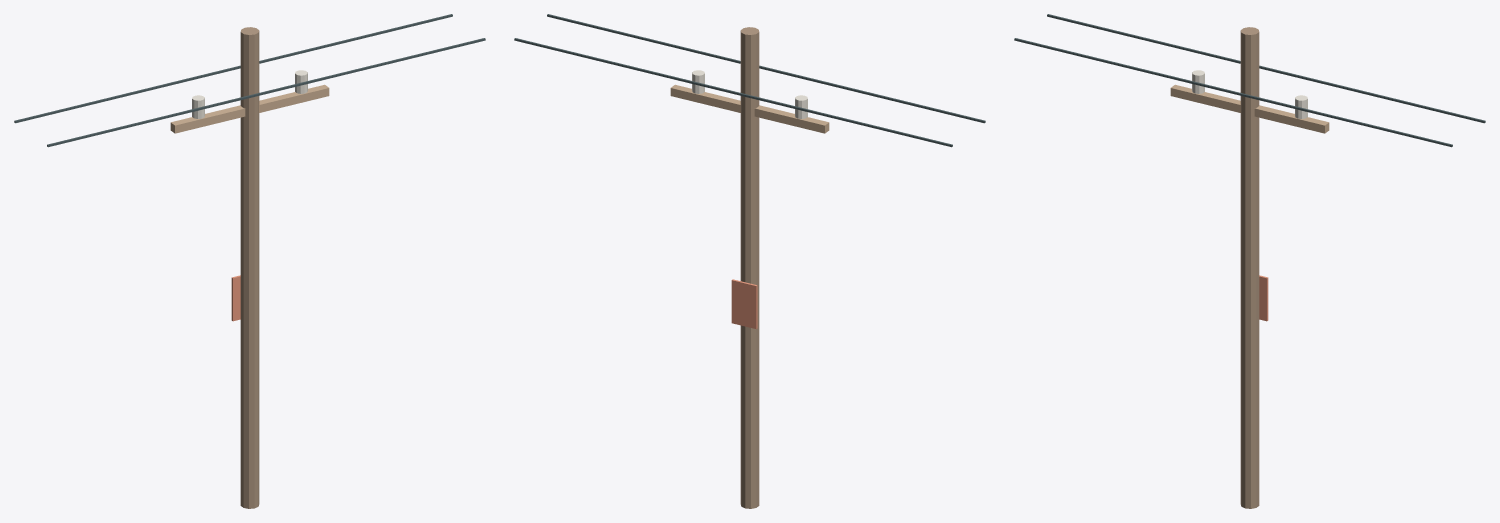
Rendered from yaba_utility_pole.glb.
3 renders of one model, left to right at view 1: azimuth 30°, elevation 25°; view 2: azimuth 150°, elevation 25°; view 3: azimuth 330°, elevation 25°, orthographic.
Parts seen in each view (by area): view 1: utility_pole, utility_crossarm, utility_wire_0.55, utility_wire_-0.55; view 2: utility_pole, utility_crossarm, utility_wire_-0.55, utility_wire_0.55, utility_notice_band; view 3: utility_pole, utility_crossarm, utility_wire_0.55, utility_wire_-0.55.
Part boxes in pixels (x1,y1,x2,y2): utility_pole: (240, 27, 259, 508); utility_crossarm: (170, 84, 329, 133); utility_wire_0.55: (47, 38, 485, 147); utility_wire_-0.55: (14, 14, 452, 123); utility_pole: (740, 27, 759, 508); utility_crossarm: (670, 84, 829, 133); utility_wire_-0.55: (514, 38, 952, 147); utility_wire_0.55: (547, 14, 985, 123); utility_notice_band: (731, 279, 757, 329); utility_pole: (1240, 27, 1259, 508); utility_crossarm: (1170, 84, 1329, 133); utility_wire_0.55: (1014, 38, 1452, 147); utility_wire_-0.55: (1047, 14, 1485, 123).
Size of what is drawn, in the model's own units: 8.5 by 8.8 by 1.14.
